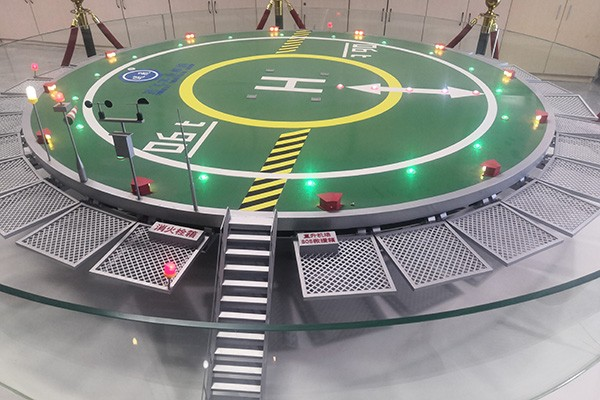H: (255, 77, 328, 94)
